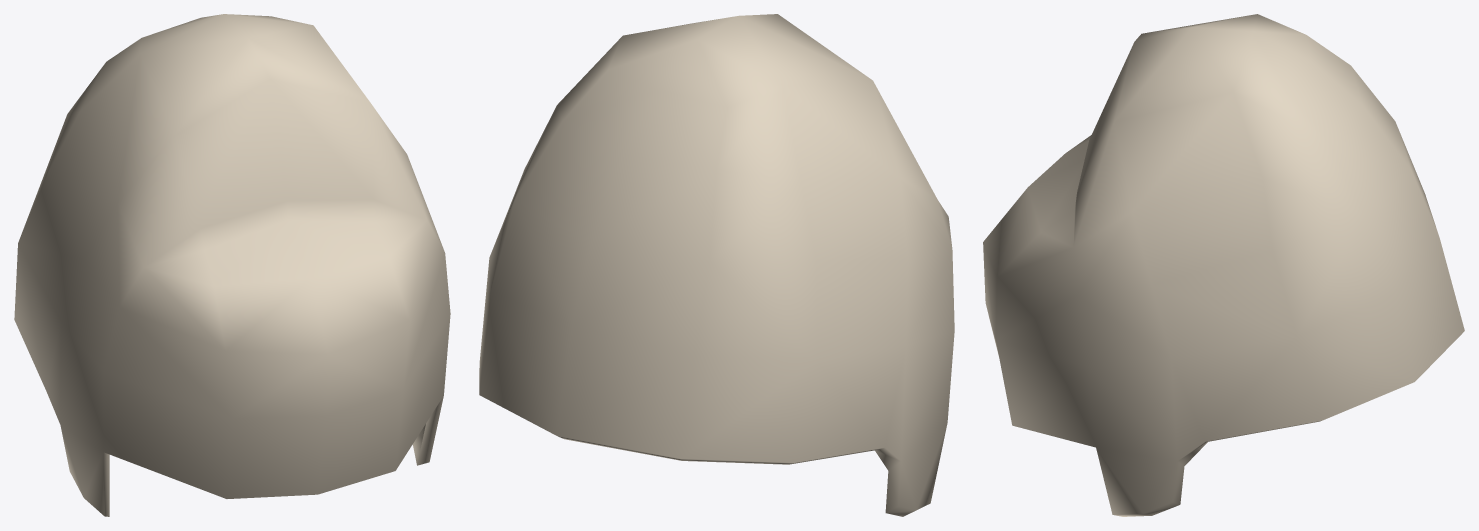
Rendered from rider-helmet-slice-mediumcavalry.glb.
The picture shows the model from 3 angles, left to right: view 1: azimuth 30°, elevation 25°; view 2: azimuth 150°, elevation 25°; view 3: azimuth 270°, elevation 25°; orthographic projection. The views are drawn at different scales.
Bounding box in the file's own units: 0.2127 × 0.252 × 0.2585.
